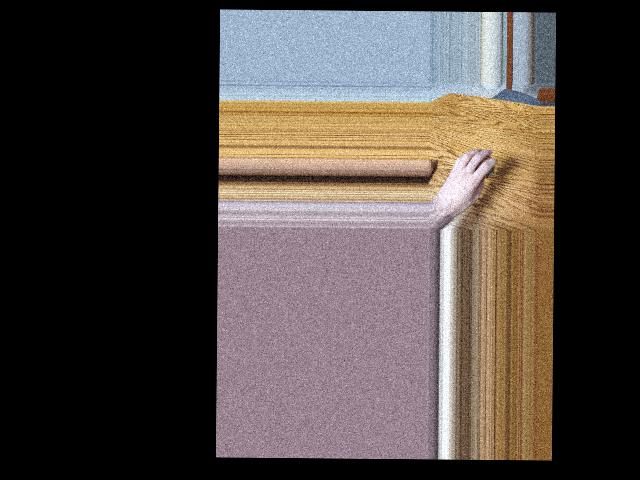onion: (470, 152, 495, 181)
